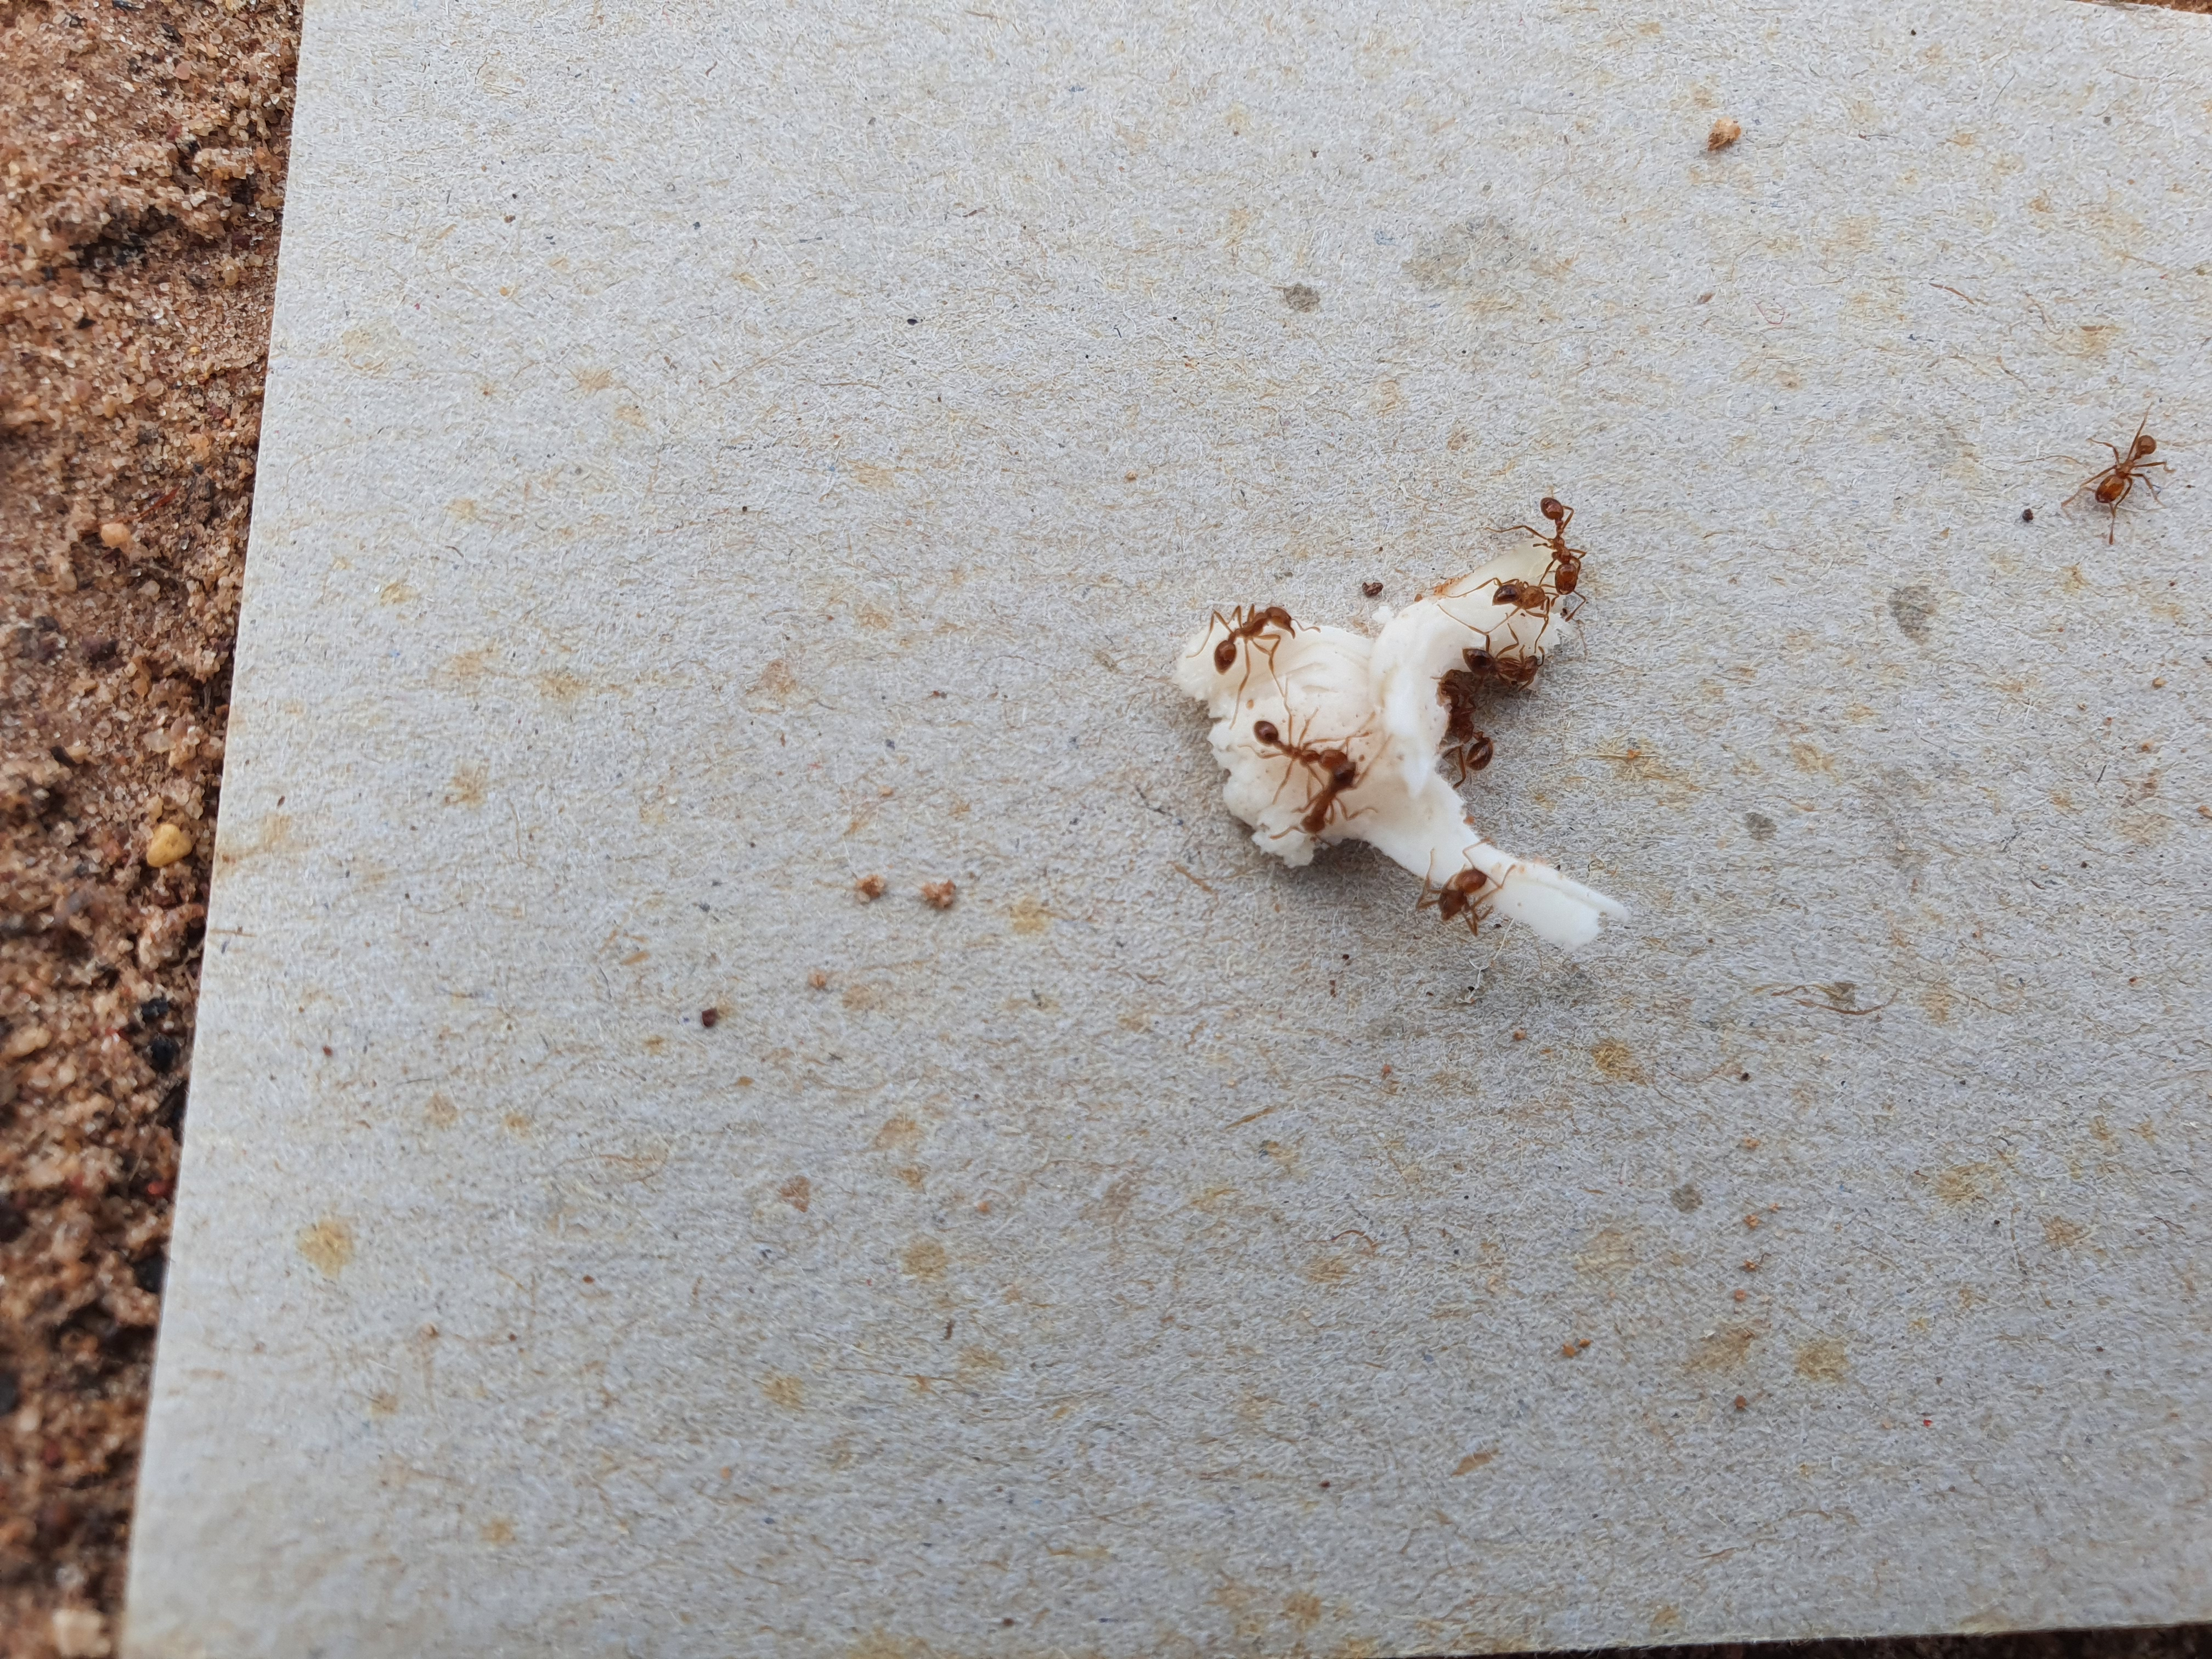Solenopsis_geminata: (2048, 389, 2189, 565), (1179, 577, 1315, 725), (1399, 828, 1526, 967), (1493, 467, 1615, 608)
